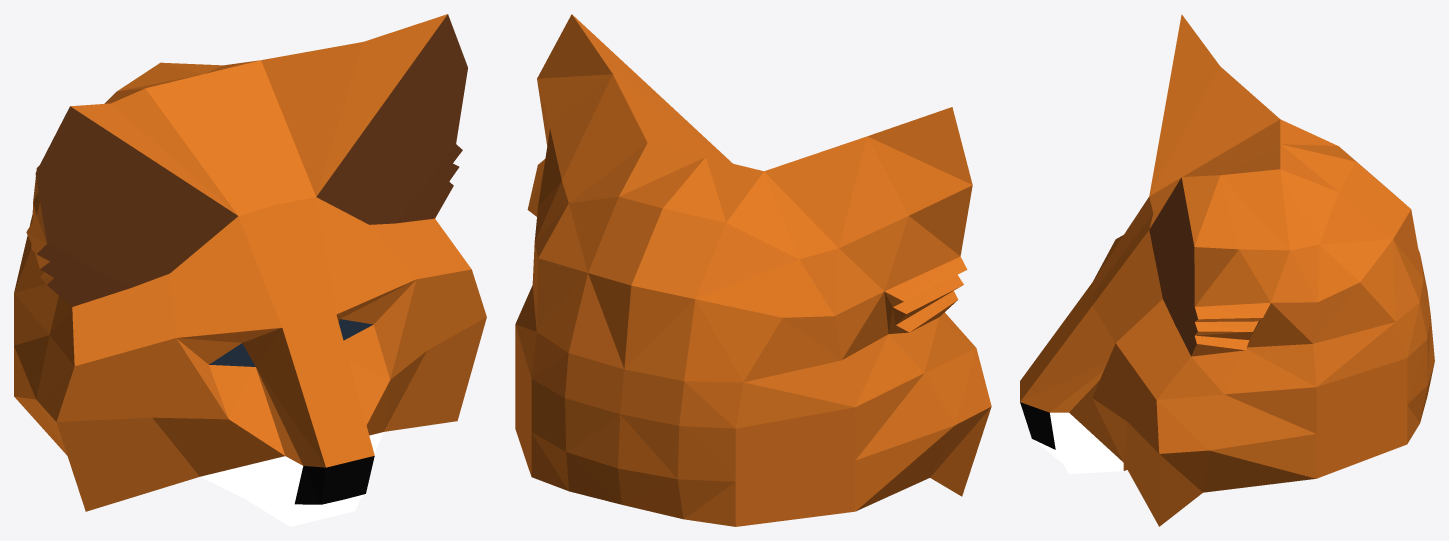
Rendered from metamask.glb.
3 views of the same model, side by side, from view 1: azimuth 30°, elevation 25°; view 2: azimuth 150°, elevation 25°; view 3: azimuth 270°, elevation 25° (orthographic). The views are drawn at different scales.
Parts seen in each view (by area): view 1: Plane.004; view 2: Plane.004; view 3: Plane.004.
Part boxes in pixels (x1,y1,x2,y2): Plane.004: [14, 14, 486, 526]; Plane.004: [515, 14, 991, 526]; Plane.004: [1020, 14, 1434, 526].
Bounding box in the file's own units: 12.76 × 11.62 × 11.99.
